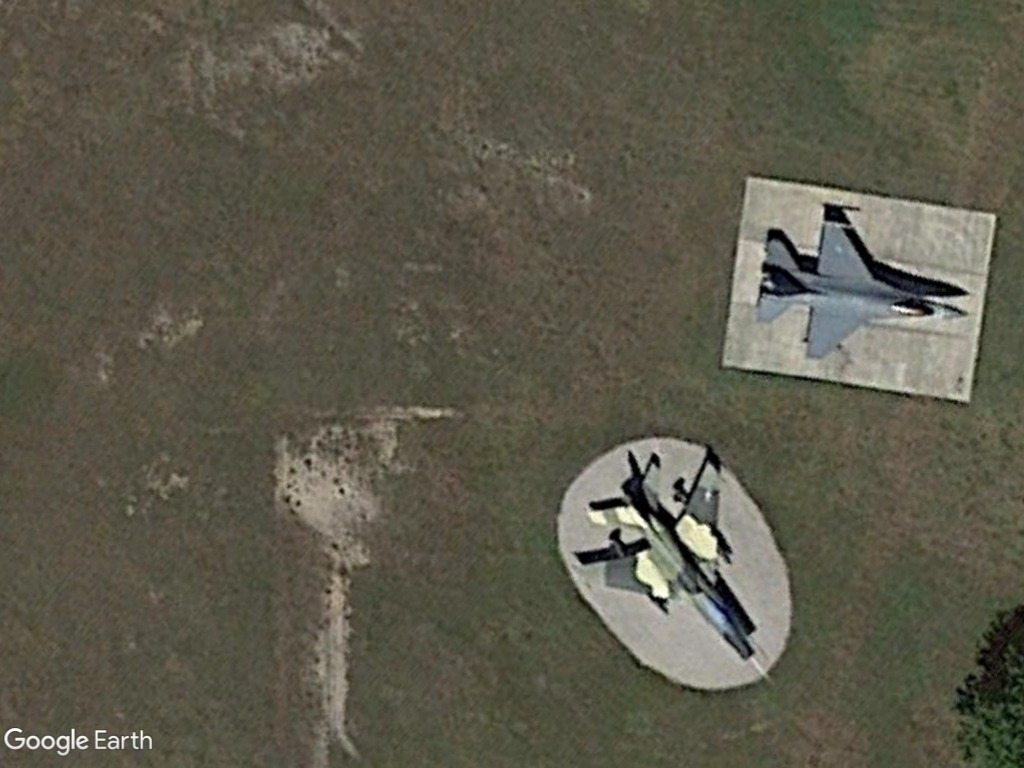fighter: (570, 447, 782, 690), (754, 204, 975, 365)
